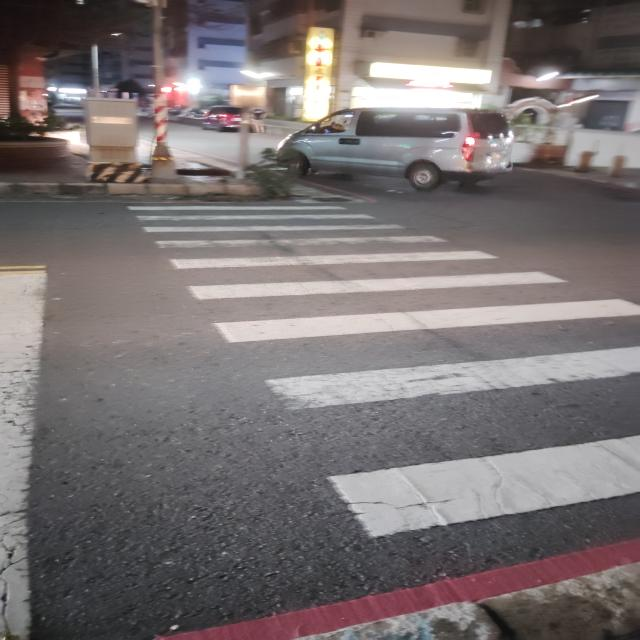zebra_crossing: (260, 93, 414, 297)
